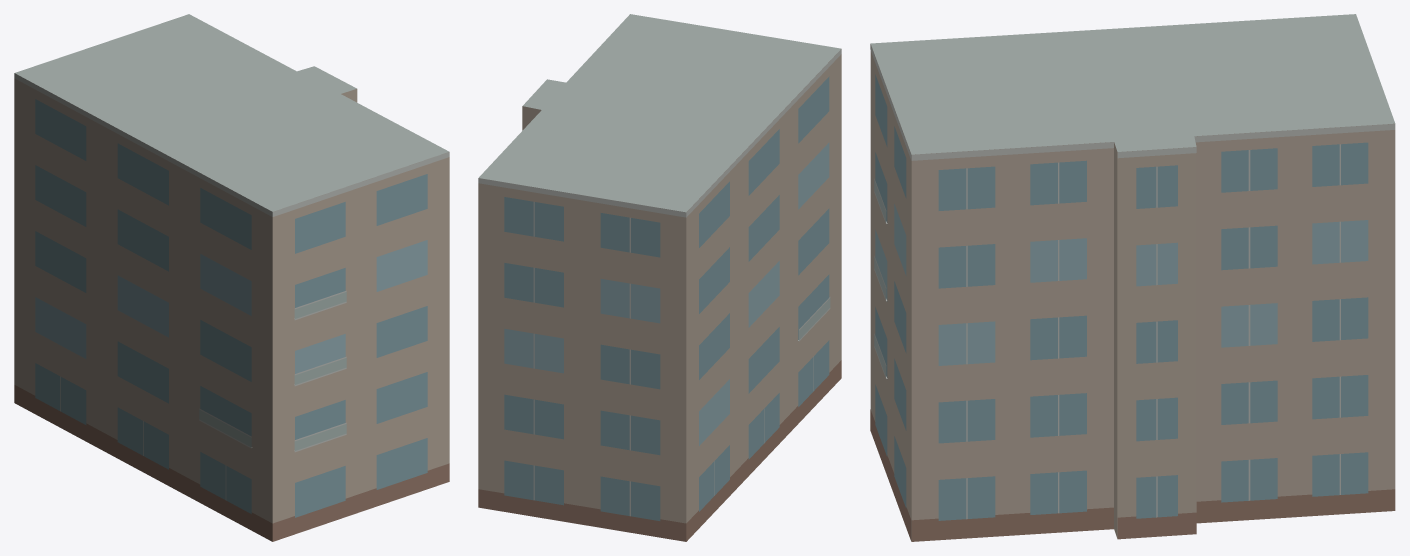
Rendered from survey-upis-32906368.glb.
3 views of the same model, side by side, from view 1: azimuth 30°, elevation 25°; view 2: azimuth 150°, elevation 25°; view 3: azimuth 270°, elevation 25° (orthographic). The views are drawn at different scales.
Visible parts, largest first — view 1: survey-upis-32906368.tmp; view 2: survey-upis-32906368.tmp; view 3: survey-upis-32906368.tmp.
Boxes of the visible parts, box(x1,y1,x2,y2) form: survey-upis-32906368.tmp: box(14, 14, 449, 541); survey-upis-32906368.tmp: box(478, 14, 841, 541); survey-upis-32906368.tmp: box(870, 14, 1395, 541).
Bounding box in the file's own units: 11.89 × 15.25 × 18.75.
